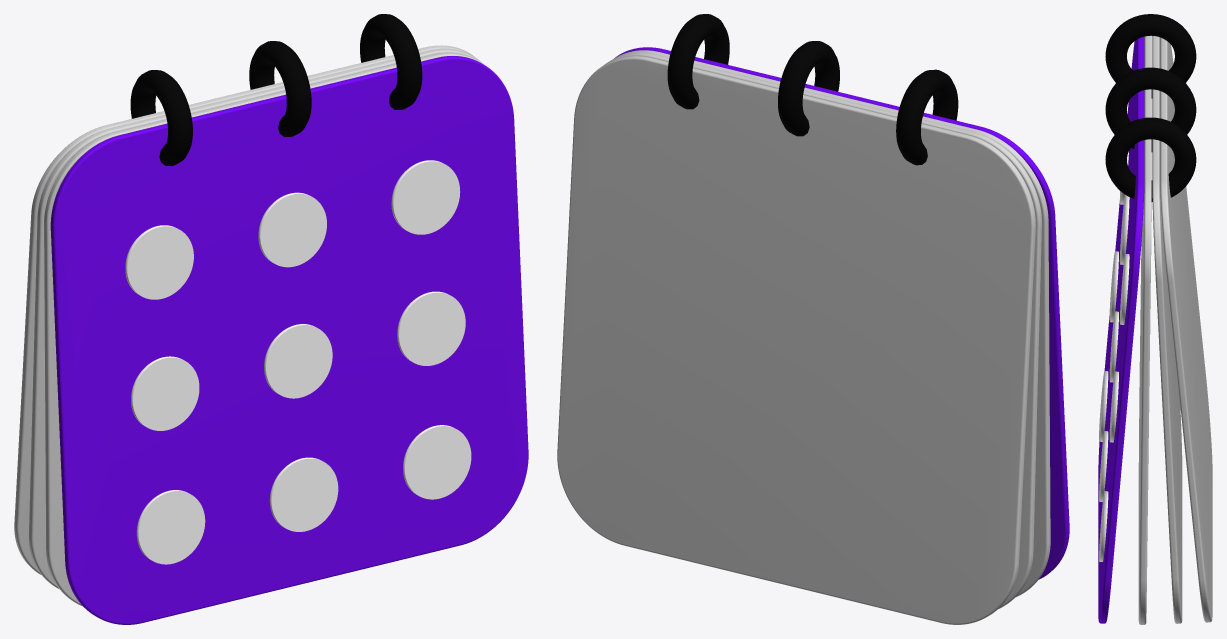
File: callender.glb
3 views of the same model, side by side, from view 1: azimuth 30°, elevation 25°; view 2: azimuth 150°, elevation 25°; view 3: azimuth 270°, elevation 25° (orthographic). The views are drawn at different scales.
Parts seen in each view (by area): view 1: Cube.007, Cylinder.007, Cube.010, Torus.007; view 2: Cube.010, Torus.007, Cube.007; view 3: Cube.010, Torus.007, Cube.007, Cylinder.007.
Part boxes in pixels (x1,y1,x2,y2): Cube.007: (50, 56, 528, 624); Cylinder.007: (125, 160, 471, 564); Cube.010: (14, 45, 484, 606); Torus.007: (130, 14, 422, 165); Cube.010: (557, 50, 1050, 624); Torus.007: (667, 14, 958, 165); Cube.007: (614, 47, 1069, 579); Cube.010: (1138, 35, 1212, 624); Torus.007: (1105, 14, 1196, 201); Cube.007: (1098, 37, 1144, 623); Cylinder.007: (1099, 151, 1129, 561).
Bounding box in the file's own units: 21.9 × 23.58 × 5.08.
